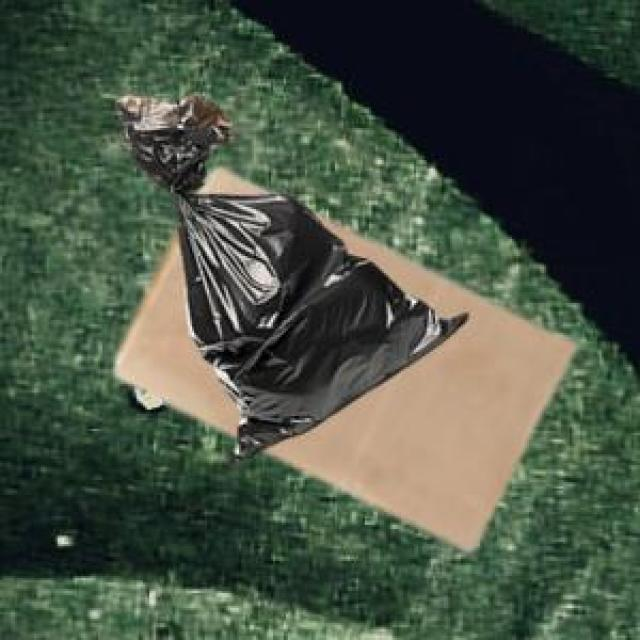miscellaneous trash: (113, 92, 465, 459)
paper: (111, 166, 572, 546)
